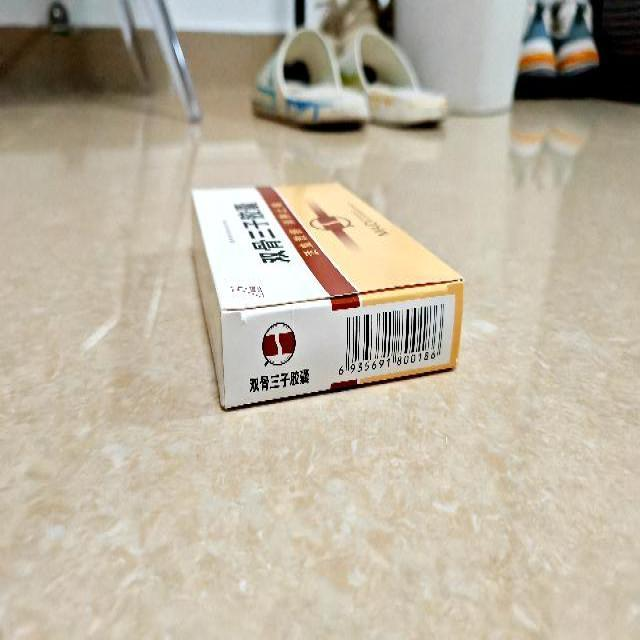box: (190, 184, 464, 411)
